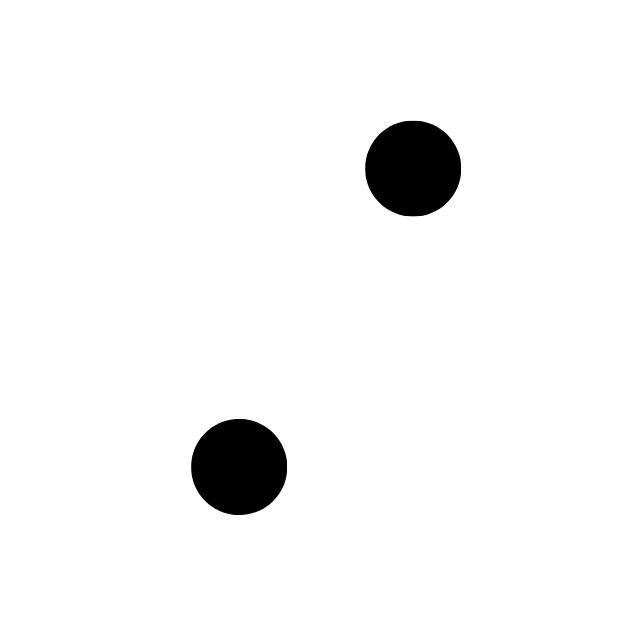A: (366, 118, 612, 517)
capital: (43, 115, 288, 518)
